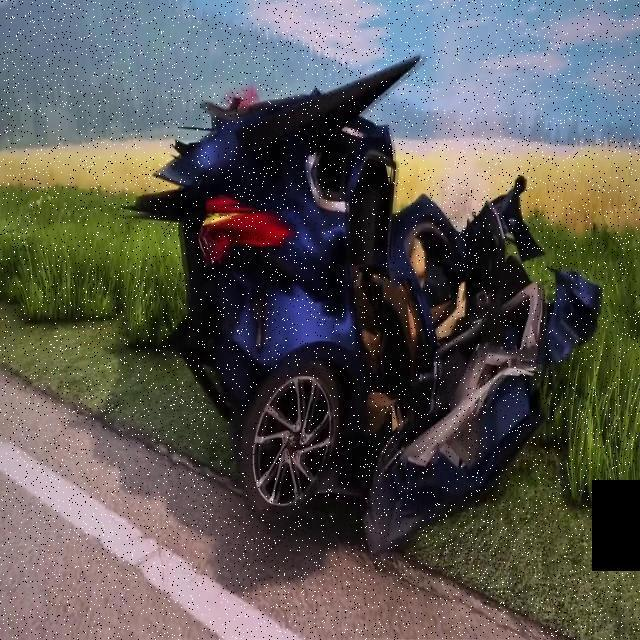vehicle: (146, 19, 614, 581)
